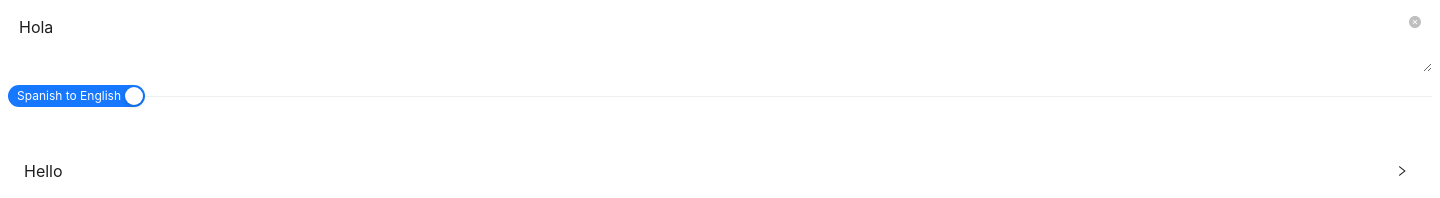
it: Translator › swap translation direction › sets the output to the spanish translation after swap
Click the switch labelled "Spanish to English English to Spanish" at (76, 96), box left=8, top=85, right=145, bottom=107
Wait 301 ms
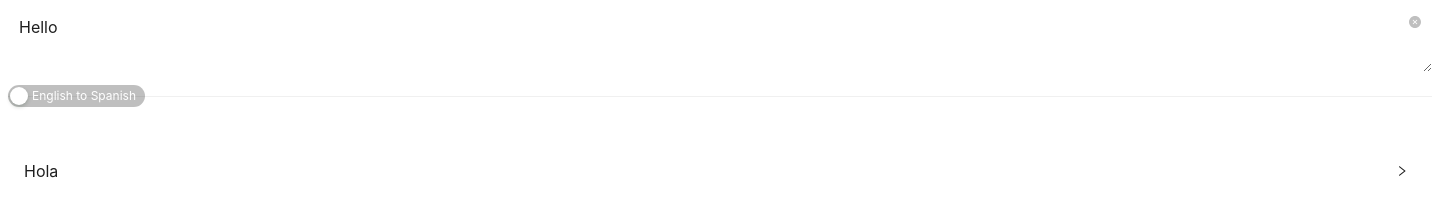
Result: the text "Hola" is shown at left=24, top=161, right=58, bottom=181
